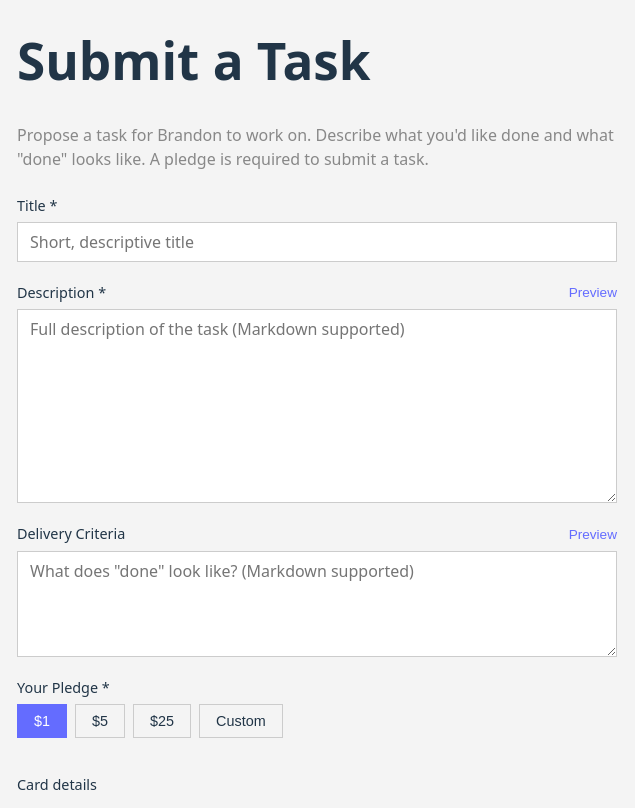
it: SubmitTask (non-admin) › validates minimum pledge amount on client side
Expected: the field labelled "Title *" is shown, [17,222,617,262]
Switch to custom amount and enter below-minimum value
Click the button "Custom".
click(241, 721)  # box [199,704,283,738]
(page scrolled)
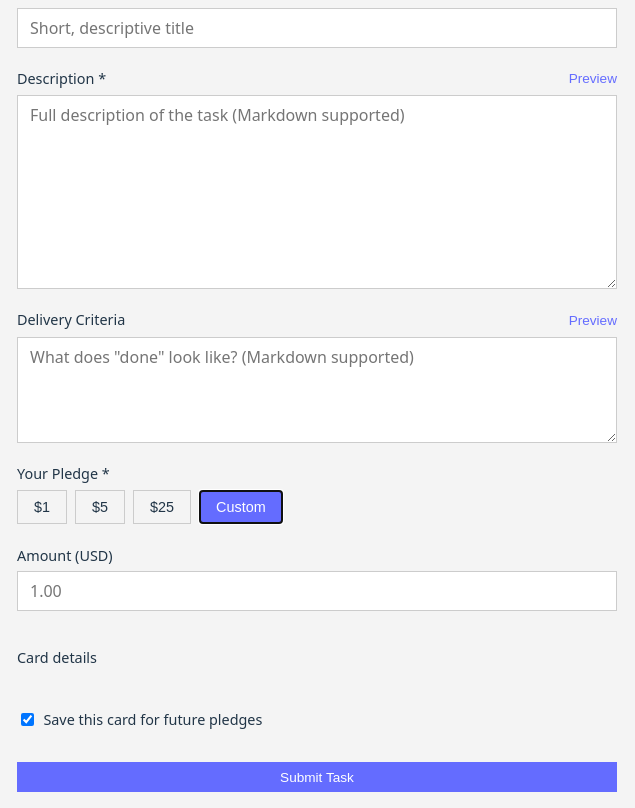
Type "0.50" into the number field labelled "Amount (USD)".
click(317, 591); type("0.50")  # box [17,571,617,611]
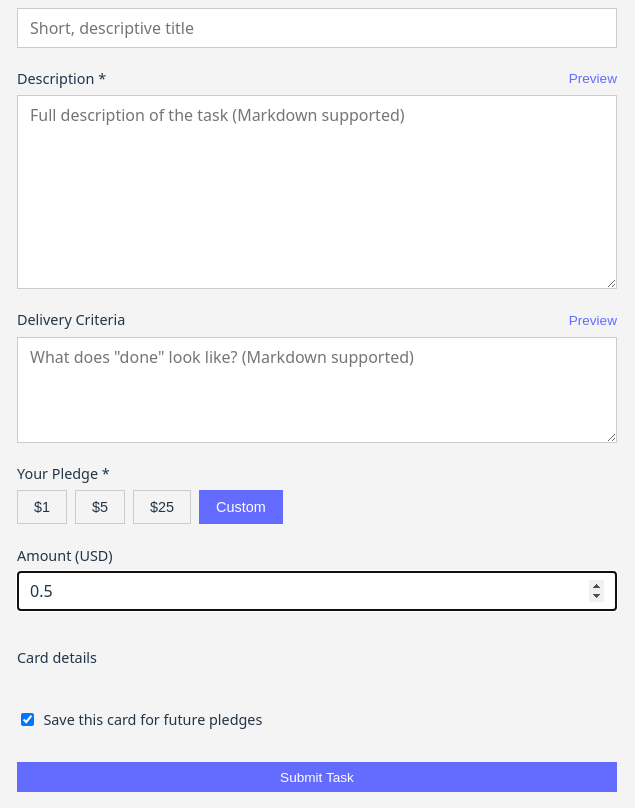
Type "Task" into the field labelled "Title *".
click(317, 28); type("Task")  # box [17,8,617,48]
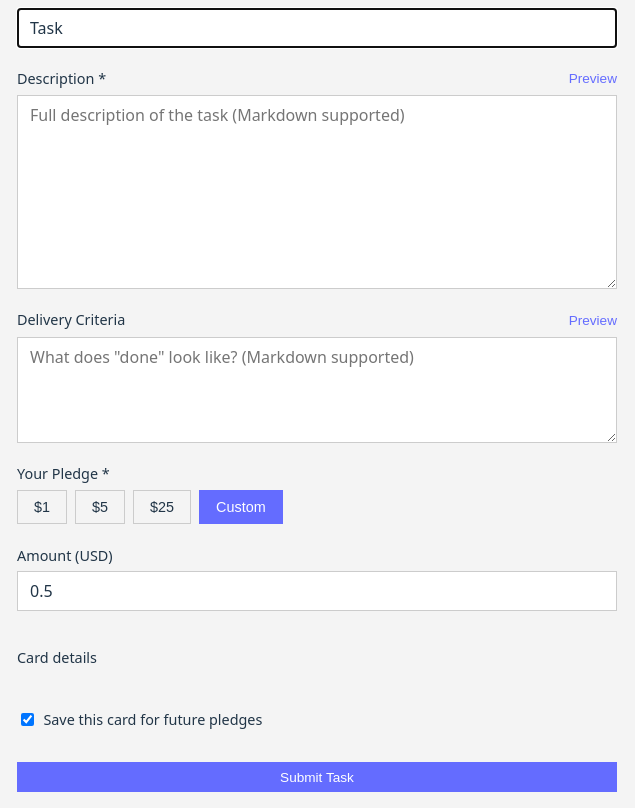
Type "Desc" into the text box labelled "Description *".
click(317, 192); type("Desc")  # box [17,95,617,289]
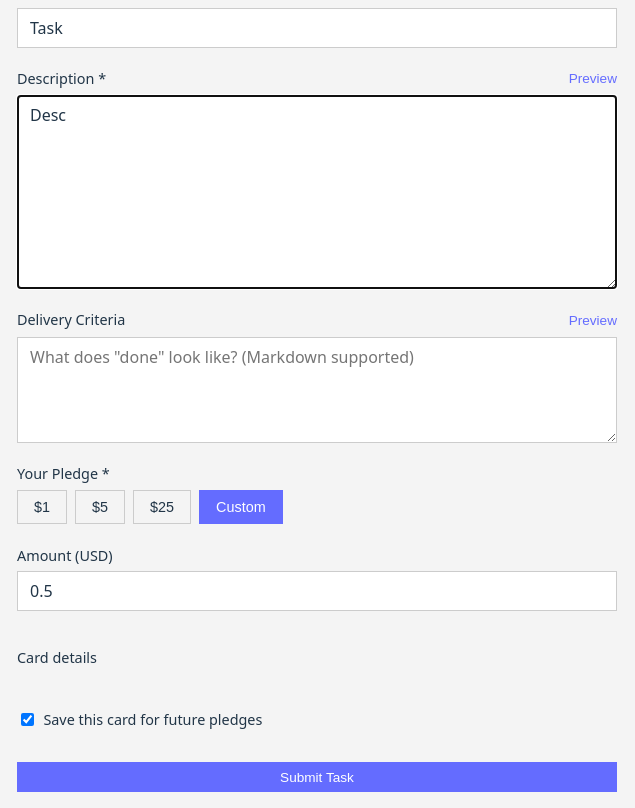
Submit the form from the button "Submit Task", box [17,762,617,792]
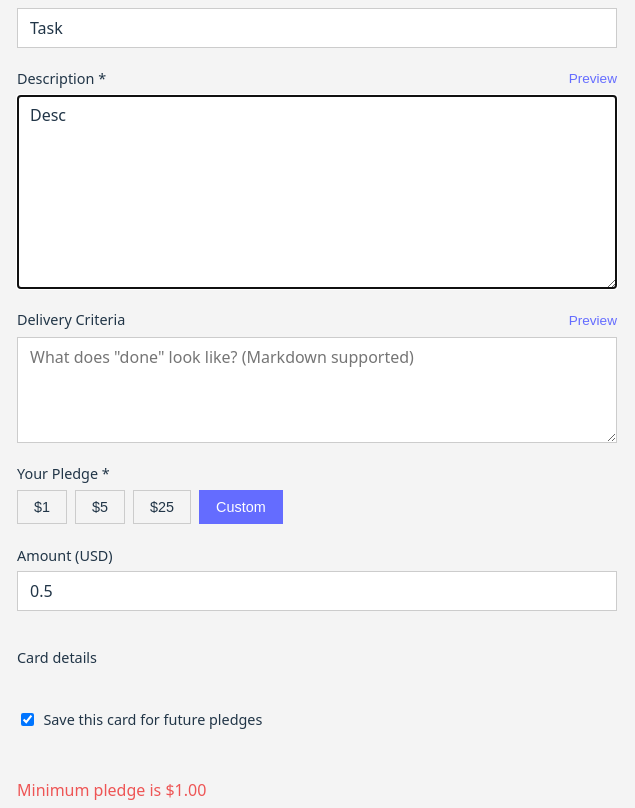
Expected: the text "Minimum pledge is $1.00" is shown, [17,779,206,801]
